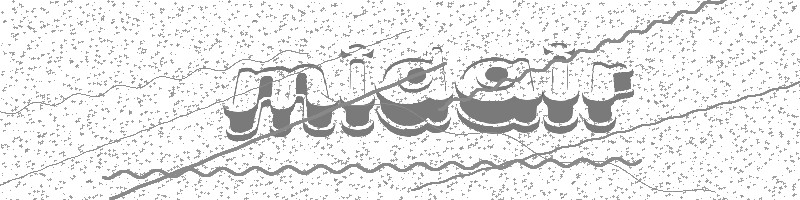a: (456, 50, 544, 137)
d: (374, 45, 452, 134)
i: (336, 39, 377, 137), (543, 41, 582, 135)
m: (219, 61, 338, 142)
r: (582, 61, 635, 132)
